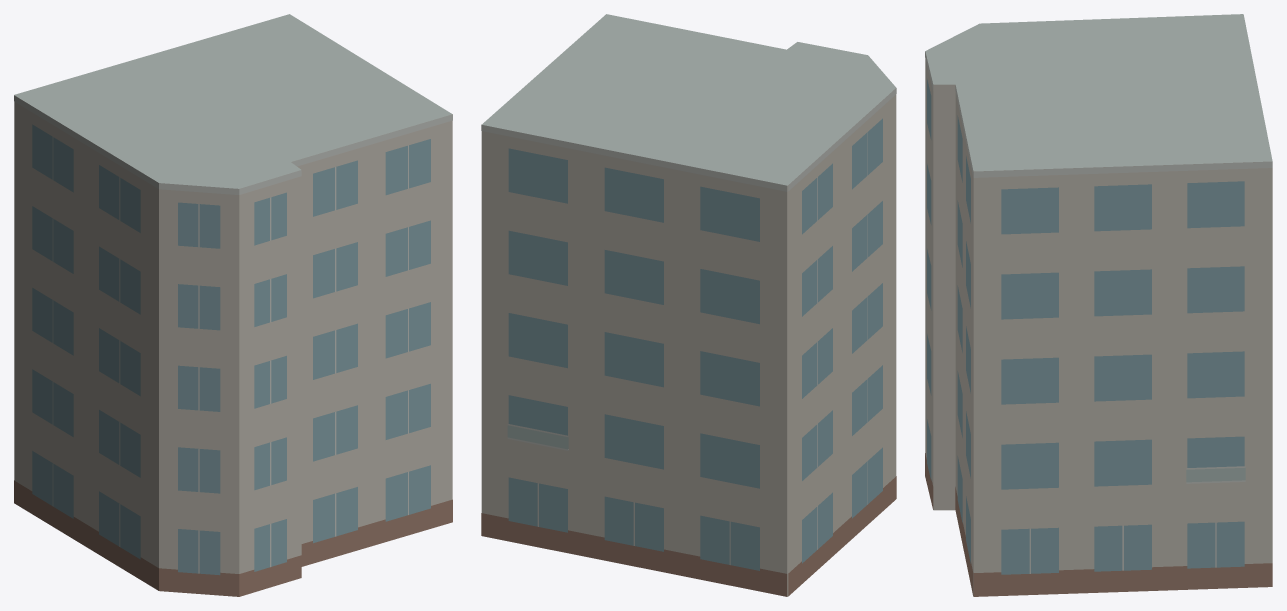
The model's file is survey-upis-32959516.glb.
3 views of the same model, side by side, from view 1: azimuth 30°, elevation 25°; view 2: azimuth 150°, elevation 25°; view 3: azimuth 270°, elevation 25° (orthographic). The views are drawn at different scales.
Parts seen in each view (by area): view 1: survey-upis-32959516.tmp; view 2: survey-upis-32959516.tmp; view 3: survey-upis-32959516.tmp.
Part boxes in pixels (<box>): survey-upis-32959516.tmp: <box>14,14,452,596</box>; survey-upis-32959516.tmp: <box>481,14,896,596</box>; survey-upis-32959516.tmp: <box>925,14,1272,596</box>.
Size of the model in its own units: 12.63 by 15.9 by 11.78.
